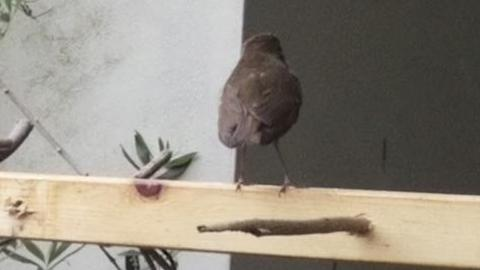robin: (217, 32, 303, 198)
